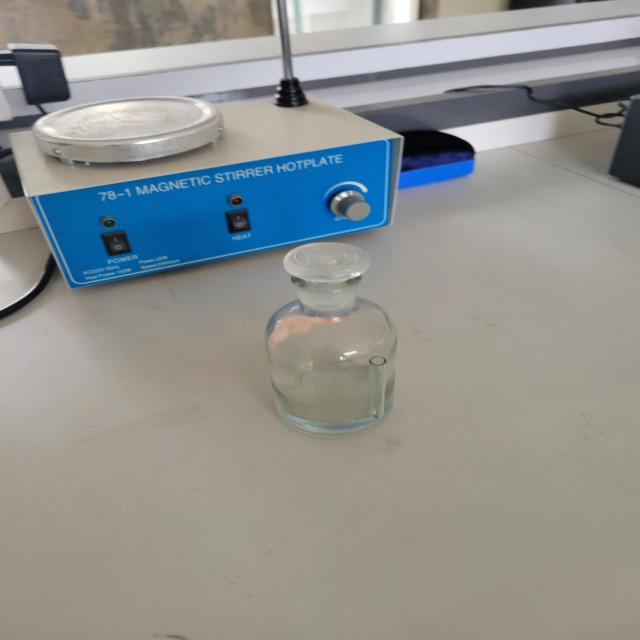Reagent_Bottle: (223, 205, 441, 455)
